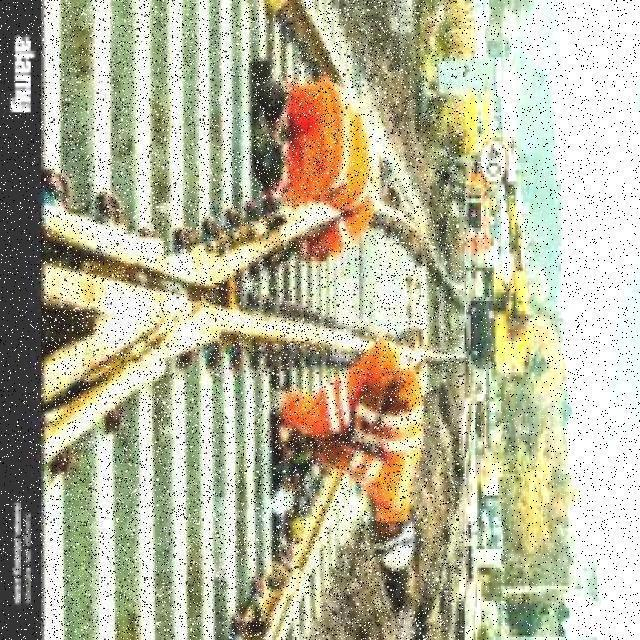rail: (42, 1, 461, 640)
